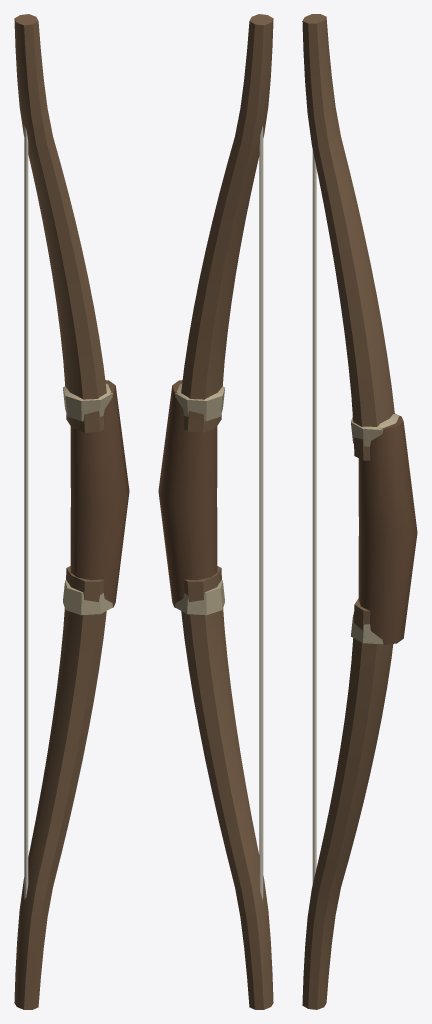
The model's file is fowling_bow.glb.
3 views of the same model, side by side, from view 1: azimuth 30°, elevation 25°; view 2: azimuth 150°, elevation 25°; view 3: azimuth 330°, elevation 25° (orthographic).
Parts seen in each view (by area): view 1: fowling_bow; view 2: fowling_bow; view 3: fowling_bow.
Part boxes in pixels (x1,y1,x2,y2): fowling_bow: (14, 14, 129, 1009); fowling_bow: (158, 14, 273, 1009); fowling_bow: (302, 14, 417, 1009).
Bounding box in the file's own units: 0.1062 × 0.9211 × 0.044.
